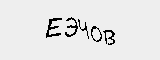І: (79, 16, 91, 39)
Е: (22, 22, 36, 39)
И: (60, 20, 80, 41)
О: (115, 15, 143, 36)
Т: (92, 15, 115, 37)
Ю: (36, 23, 60, 40)
